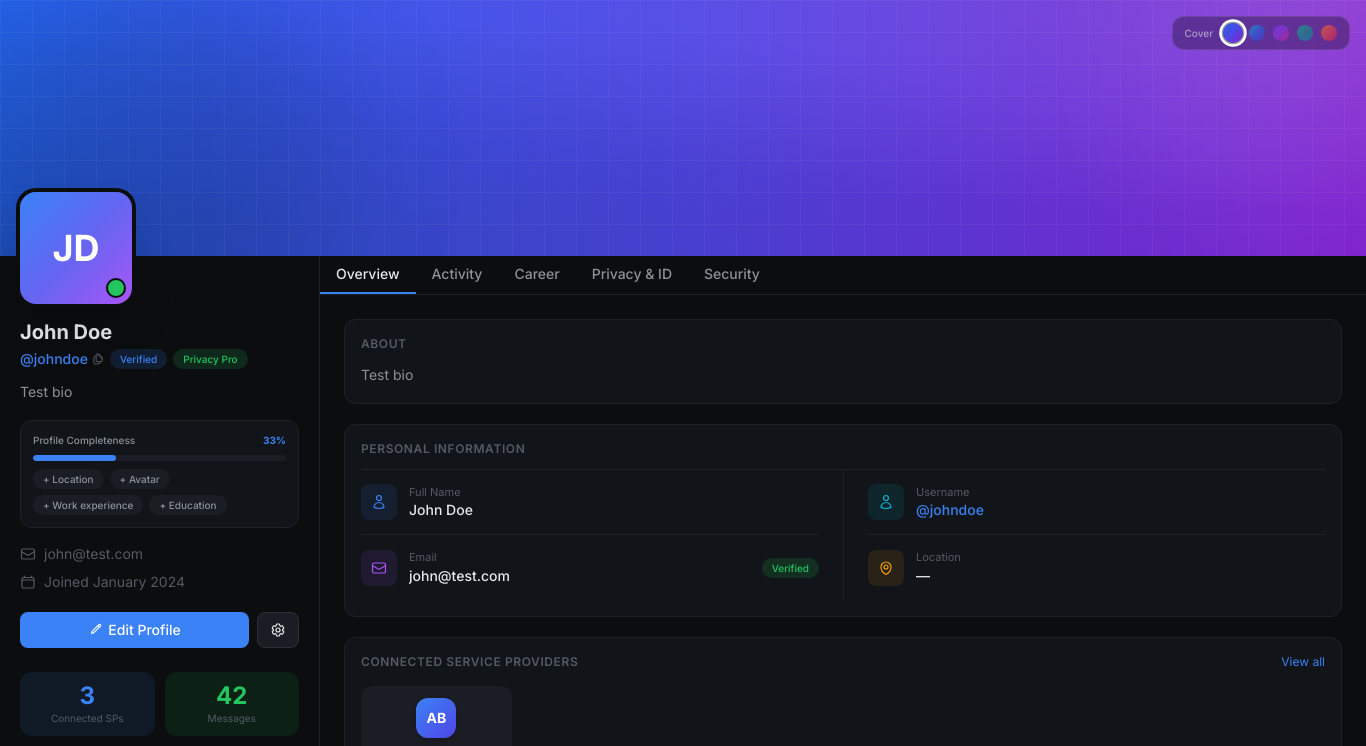
Test: ProfilePage › can switch to Activity tab
Click the button "Activity": (457, 275) [416, 256, 498, 294]
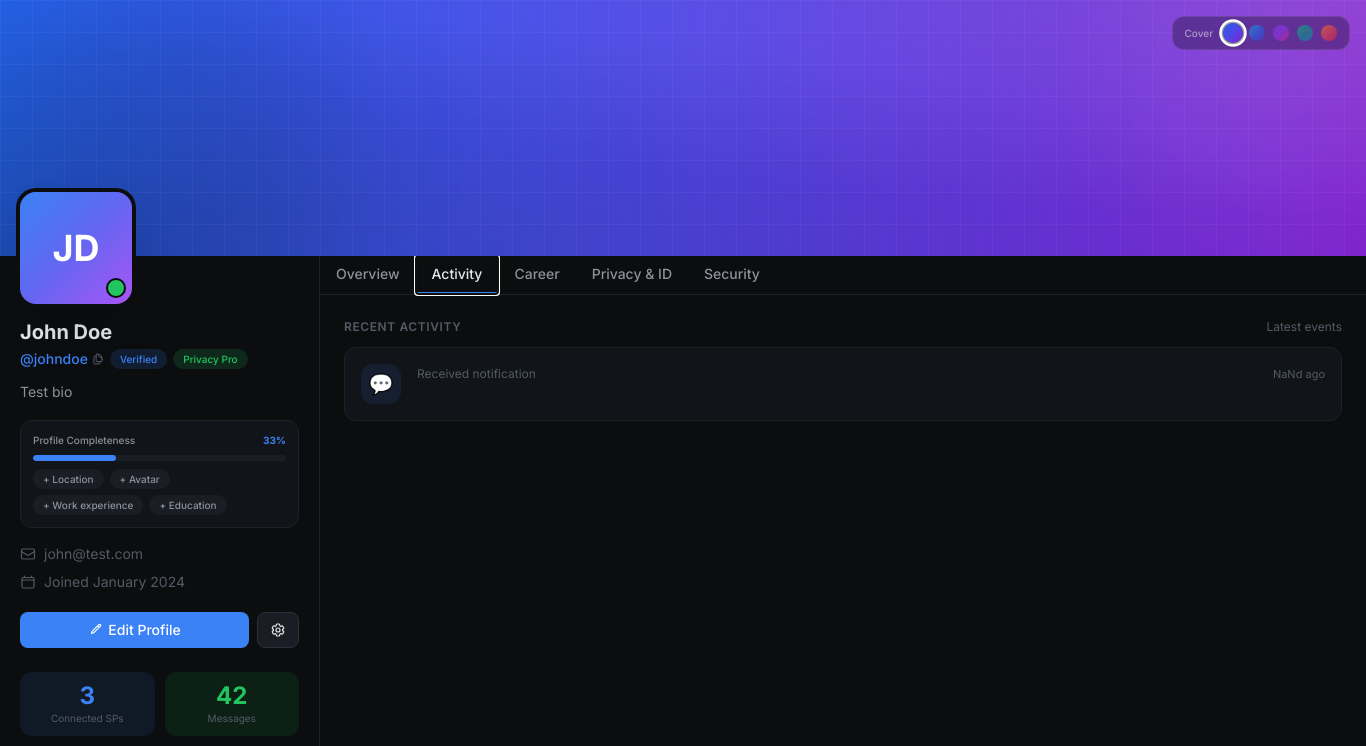
Check: the text "Received notification" is shown, box [417, 366, 536, 381]
